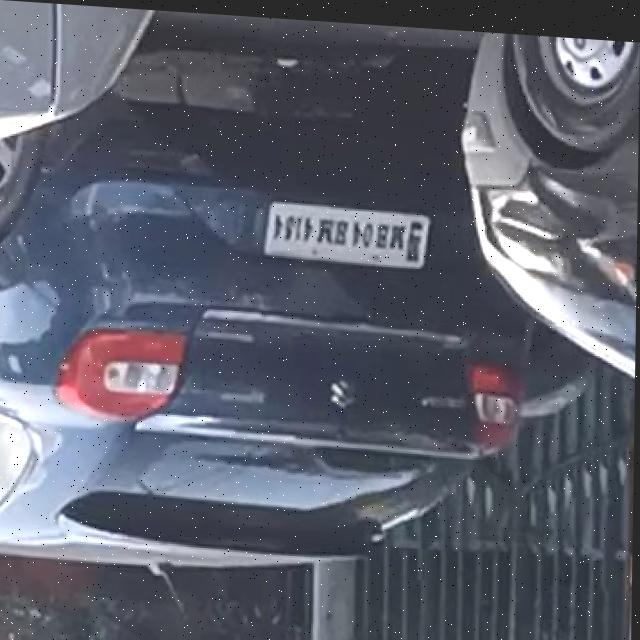plate: (263, 196, 431, 265)
